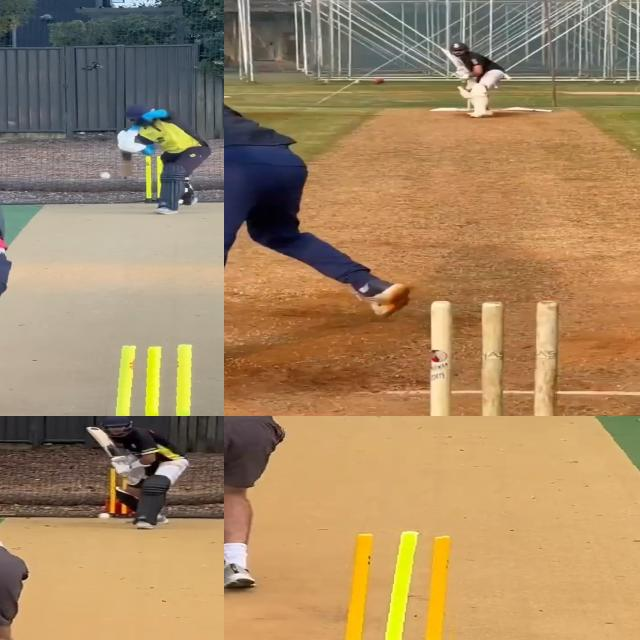Cricket ball: (97, 170, 115, 180), (96, 514, 112, 522), (372, 78, 386, 85)
Stumps: (426, 301, 557, 416), (341, 530, 464, 640), (104, 343, 221, 416)
